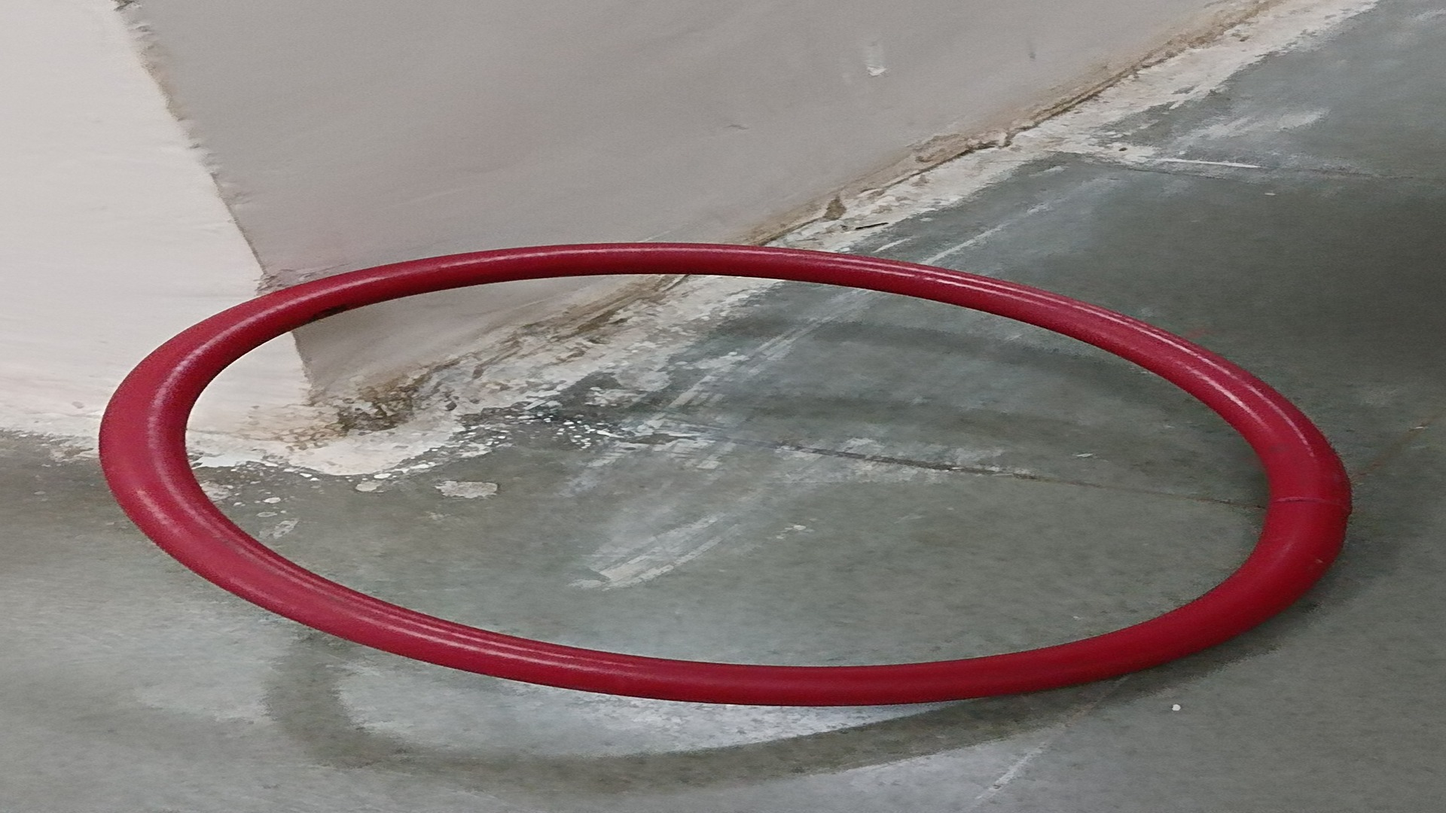Red ring: (99, 245, 1354, 705)
